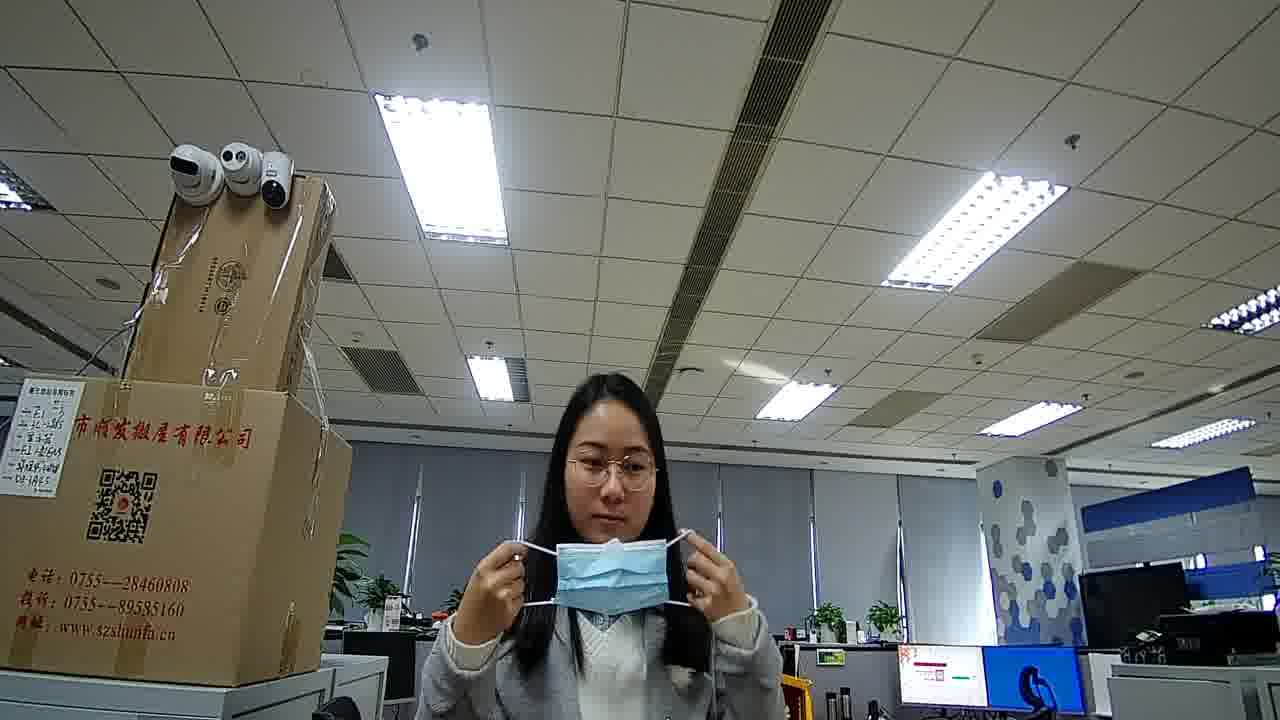face: (559, 412, 665, 536)
mask: (557, 541, 673, 615)
person: (512, 374, 718, 605), (184, 136, 318, 279)
